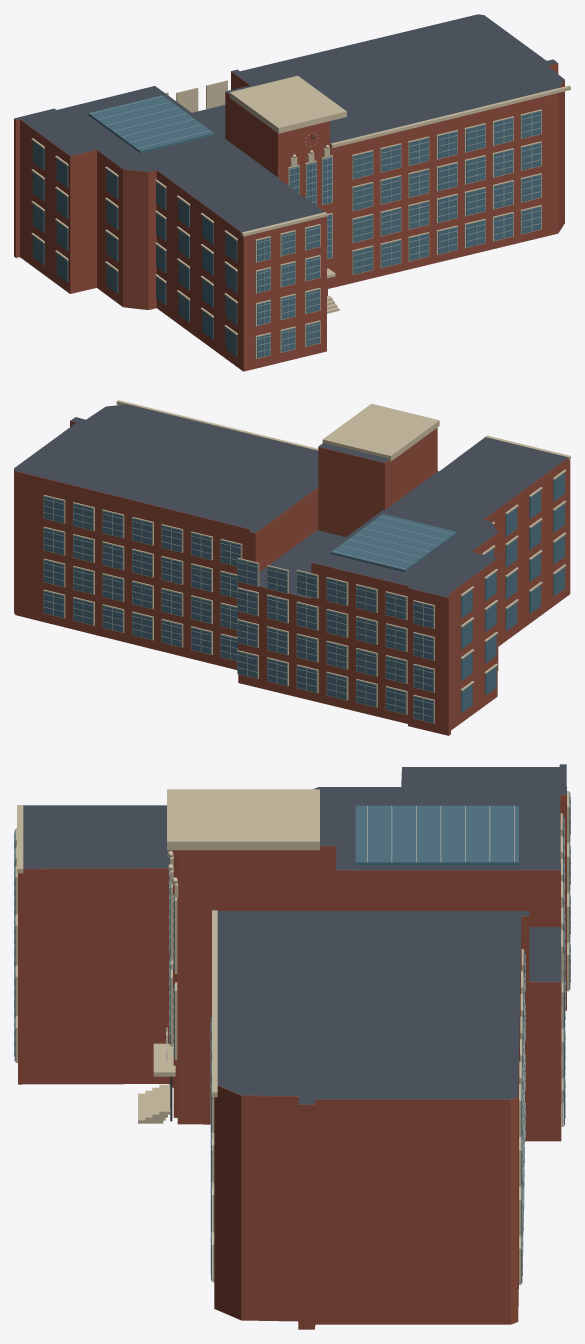
Rendered from lab111.glb.
3 views of the same model, one above another, from view 1: azimuth 30°, elevation 25°; view 2: azimuth 150°, elevation 25°; view 3: azimuth 270°, elevation 25° (orthographic). The views are drawn at different scales.
Visible parts, largest first — view 1: lab111; view 2: lab111; view 3: lab111.
Boxes of the visible parts, box(x1,y1,x2,y2) form: lab111: box(14, 14, 570, 371); lab111: box(14, 400, 570, 735); lab111: box(14, 764, 570, 1329).
Size of the model in its own units: 55.8 by 21.9 by 37.53.
